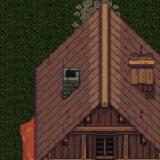Obstacle: (4, 67, 160, 160)
